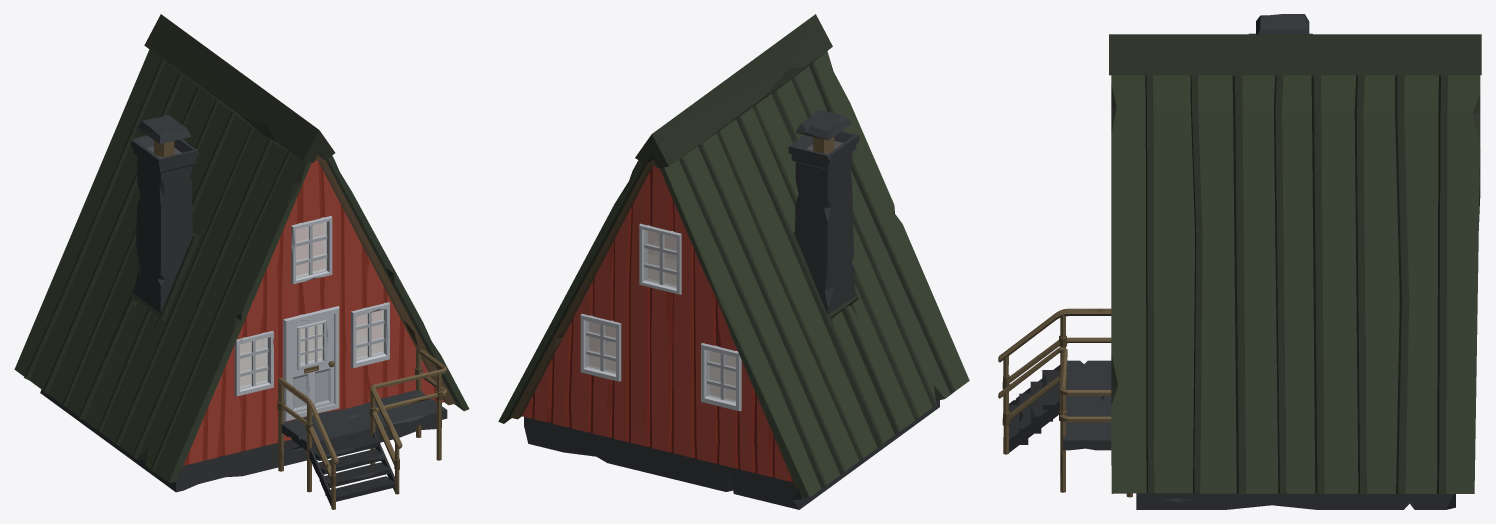
The model's file is alp_Prop_Cabin_01.glb.
3 renders of one model, left to right at view 1: azimuth 30°, elevation 25°; view 2: azimuth 150°, elevation 25°; view 3: azimuth 270°, elevation 25°, orthographic. The views are drawn at different scales.
Parts seen in each view (by area): view 1: SM_Prop_Cabin_01, SM_Prop_Cabin_Door_01, SM_Prop_Cabin_Glass_01, SM_Prop_Cabin_Door_Glass_01; view 2: SM_Prop_Cabin_01, SM_Prop_Cabin_Glass_01; view 3: SM_Prop_Cabin_01.
Part boxes in pixels (bbox=[...]): SM_Prop_Cabin_01: bbox=[14, 14, 469, 509]; SM_Prop_Cabin_Door_01: bbox=[290, 314, 334, 412]; SM_Prop_Cabin_Glass_01: bbox=[240, 222, 383, 388]; SM_Prop_Cabin_Door_Glass_01: bbox=[300, 324, 322, 365]; SM_Prop_Cabin_01: bbox=[498, 14, 969, 509]; SM_Prop_Cabin_Glass_01: bbox=[586, 230, 735, 402]; SM_Prop_Cabin_01: bbox=[998, 14, 1481, 509].
Bounding box in the file's own units: 6.69 × 7.09 × 7.78.
3 materials, 2 textured.
